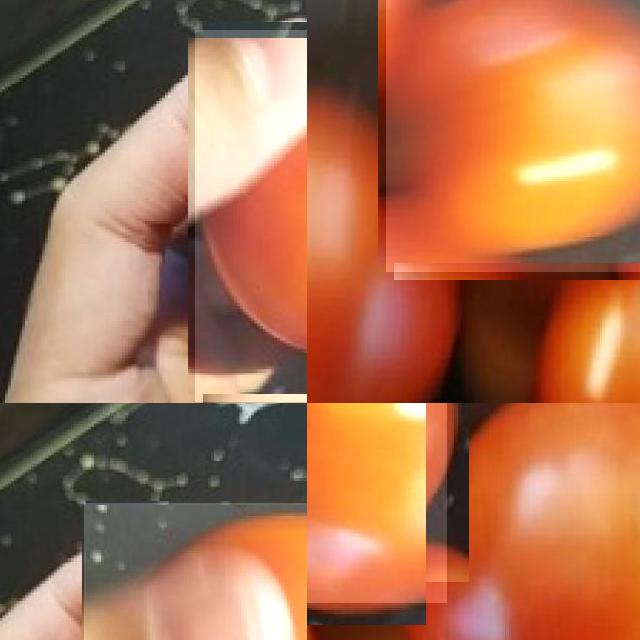0: (194, 30, 307, 402), (83, 503, 307, 640)
Fresh Tomato: (385, 0, 640, 271), (408, 403, 640, 640), (307, 86, 460, 403), (307, 403, 447, 603), (505, 238, 640, 403)
